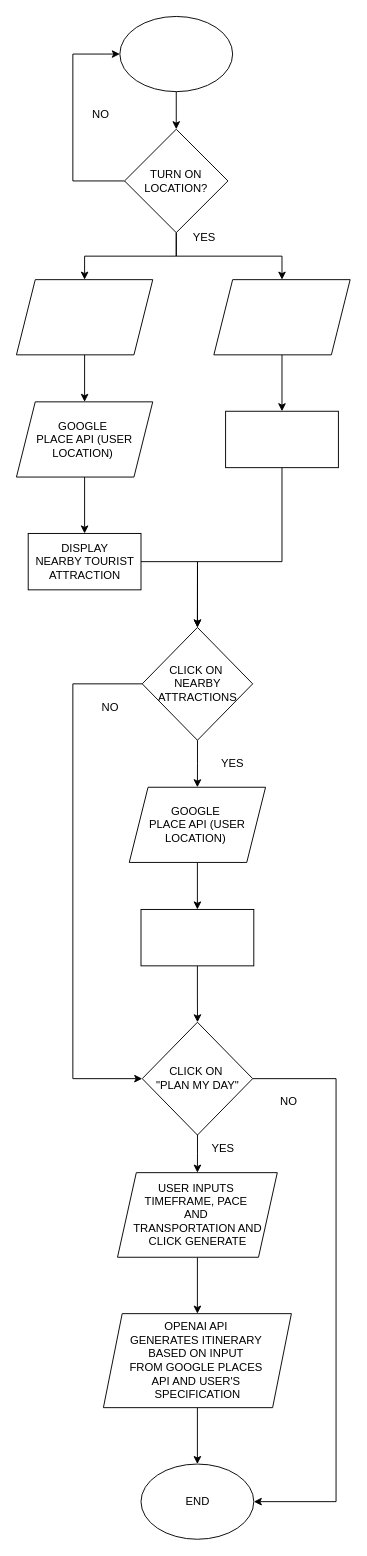
Some shapes in this 367 by 1556 pixel diagram are drawn without their labels. Here are the shapes that lost their labels. From the top down, the box of each, then its label:
(119, 16, 233, 92): START
(16, 279, 153, 355): USER SET LOCATION RADIUS
(213, 279, 350, 355): ACCUWEATHER FORECAST API (USER LOCATION)
(225, 410, 338, 468): DISPLAY 1 WEEK FORECAST OF LOCATION
(140, 909, 254, 966): DISPLAY REVIEWS AND COMMENTS BY OTHER USERS
